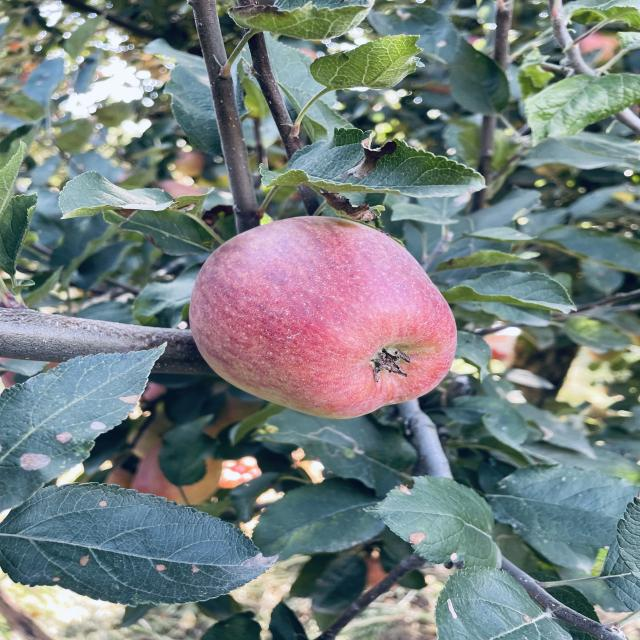Apple: (190, 216, 457, 419)
